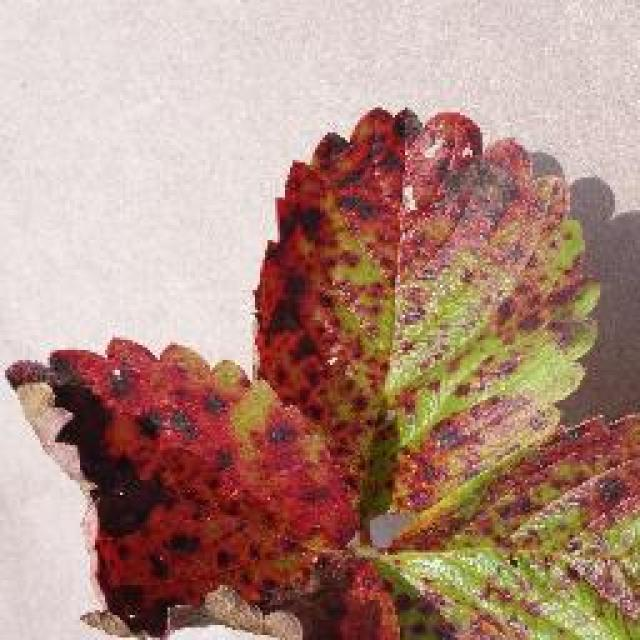Strawberry___Leaf_scorch: (5, 70, 637, 640)
